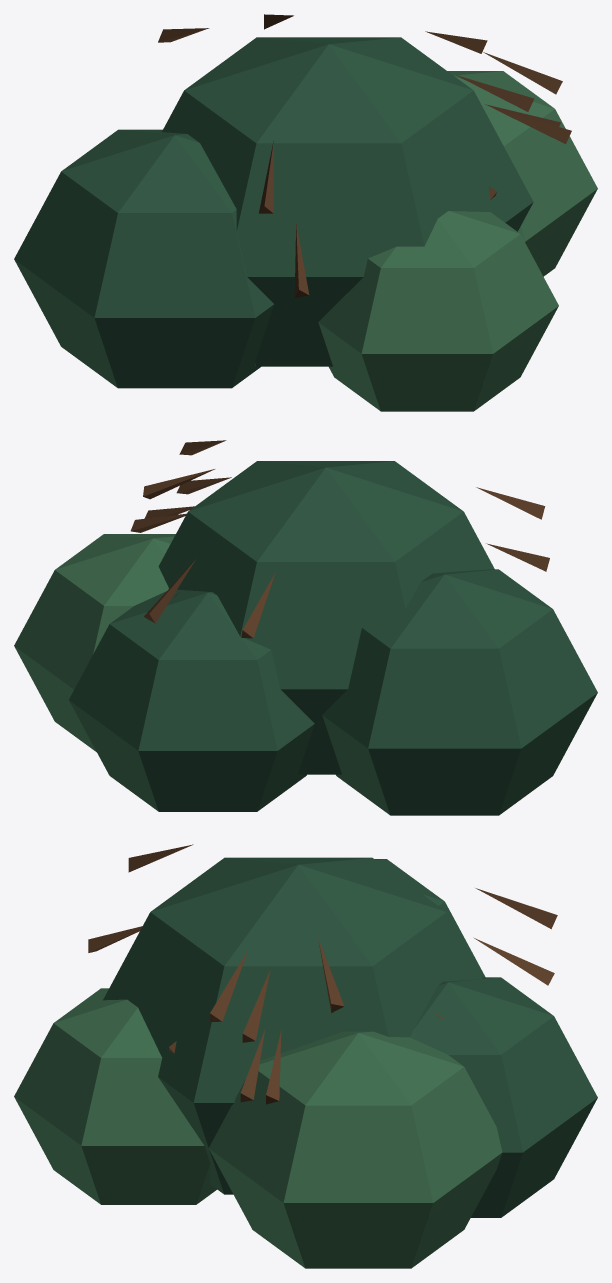
File: nature_bush_b.glb
3 renders of one model, top to bottom at view 1: azimuth 30°, elevation 25°; view 2: azimuth 150°, elevation 25°; view 3: azimuth 270°, elevation 25°, orthographic. The views are drawn at different scales.
Parts seen in each view (by area): view 1: nature_bush_b; view 2: nature_bush_b; view 3: nature_bush_b.
Boxes of the visible parts, x1,y1,x2,y2 form: nature_bush_b: (14,14,597,411); nature_bush_b: (14,440,597,815); nature_bush_b: (14,844,597,1268).
Size of the model in its own units: 2.06 by 1.19 by 1.95.
